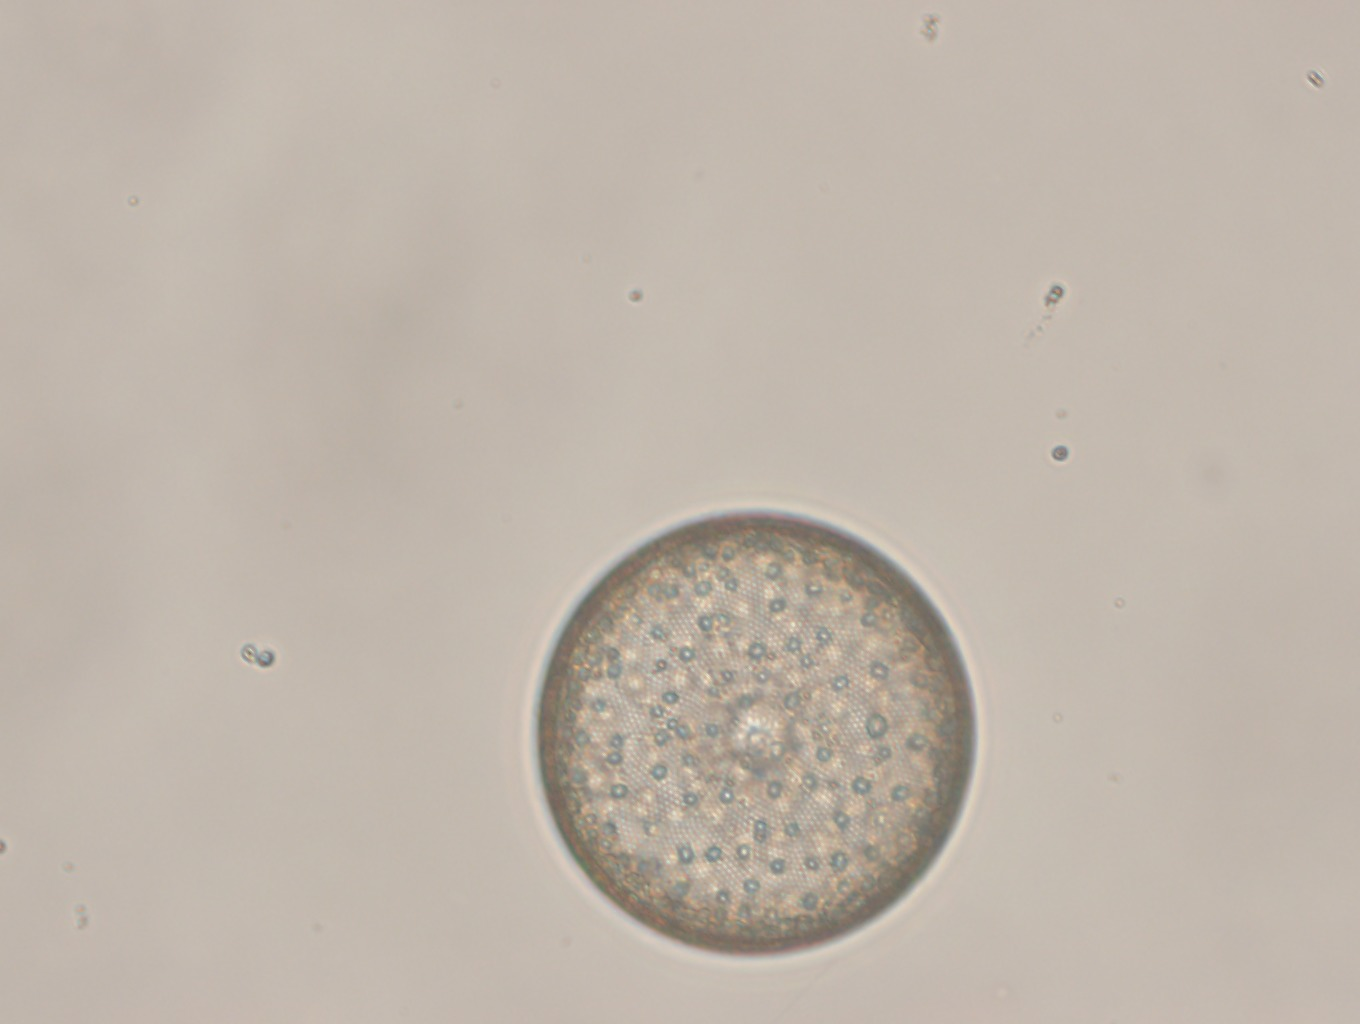coscinodiscus: (528, 502, 986, 965)
